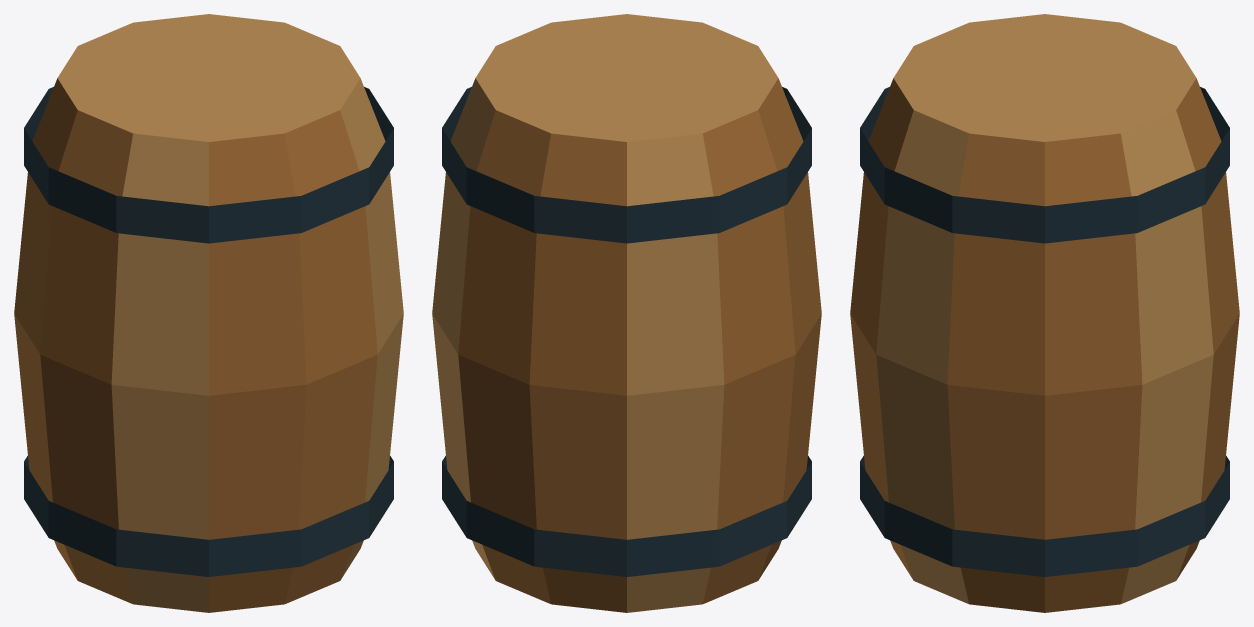
The model's file is wood_barrel_1m.glb.
3 views of the same model, side by side, from view 1: azimuth 30°, elevation 25°; view 2: azimuth 150°, elevation 25°; view 3: azimuth 270°, elevation 25° (orthographic).
Visible parts, largest first — view 1: wood_barrel_1m__pc; view 2: wood_barrel_1m__pc; view 3: wood_barrel_1m__pc.
Part boxes in pixels (left/top/right/bottom): wood_barrel_1m__pc: left=14, top=14, right=403, bottom=612; wood_barrel_1m__pc: left=432, top=14, right=821, bottom=612; wood_barrel_1m__pc: left=850, top=14, right=1239, bottom=612.
Size of the model in its own units: 0.72 by 0.96 by 0.72.
